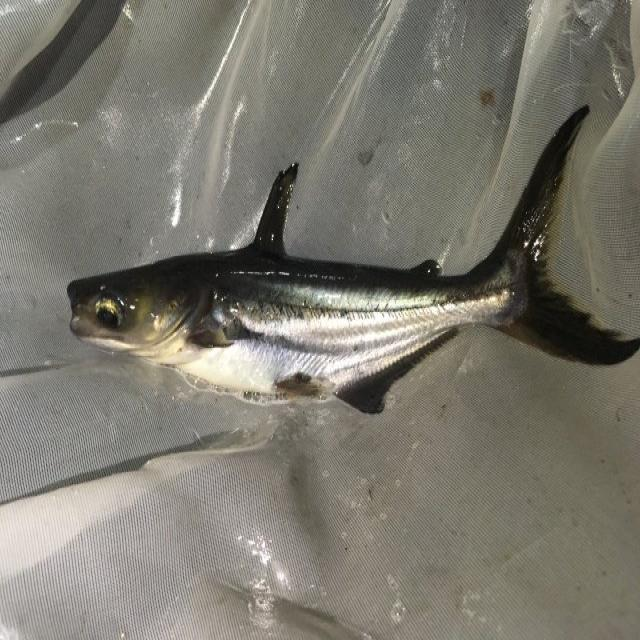Mekong_Giant_Catfish: (64, 103, 636, 409)
